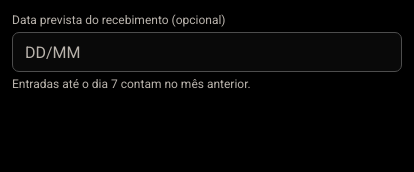
Test: permite digitar apenas dia e mês e indica o ano selecionado
In the field named "Dia e mês do recebimento": (207, 52) 12,32 -> 402,72, type "0501"
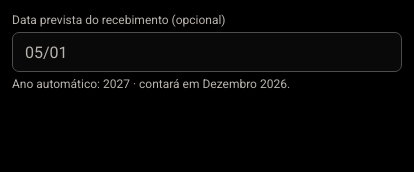
Expected: the field named "Dia e mês do recebimento" holds "05/01"
Expected: the text "Ano automático: 2027 · contará em Dezembro 2026." is shown, 12,77 -> 290,91
Replace the text in the field named "Dia e mês do recebimento" with "3102": (207, 52) 12,32 -> 402,72
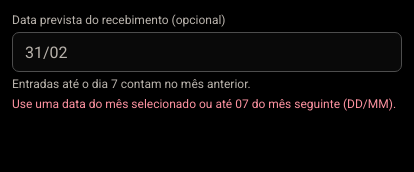
Expected: the field named "Dia e mês do recebimento" is marked as invalid, 12,32 -> 402,72
